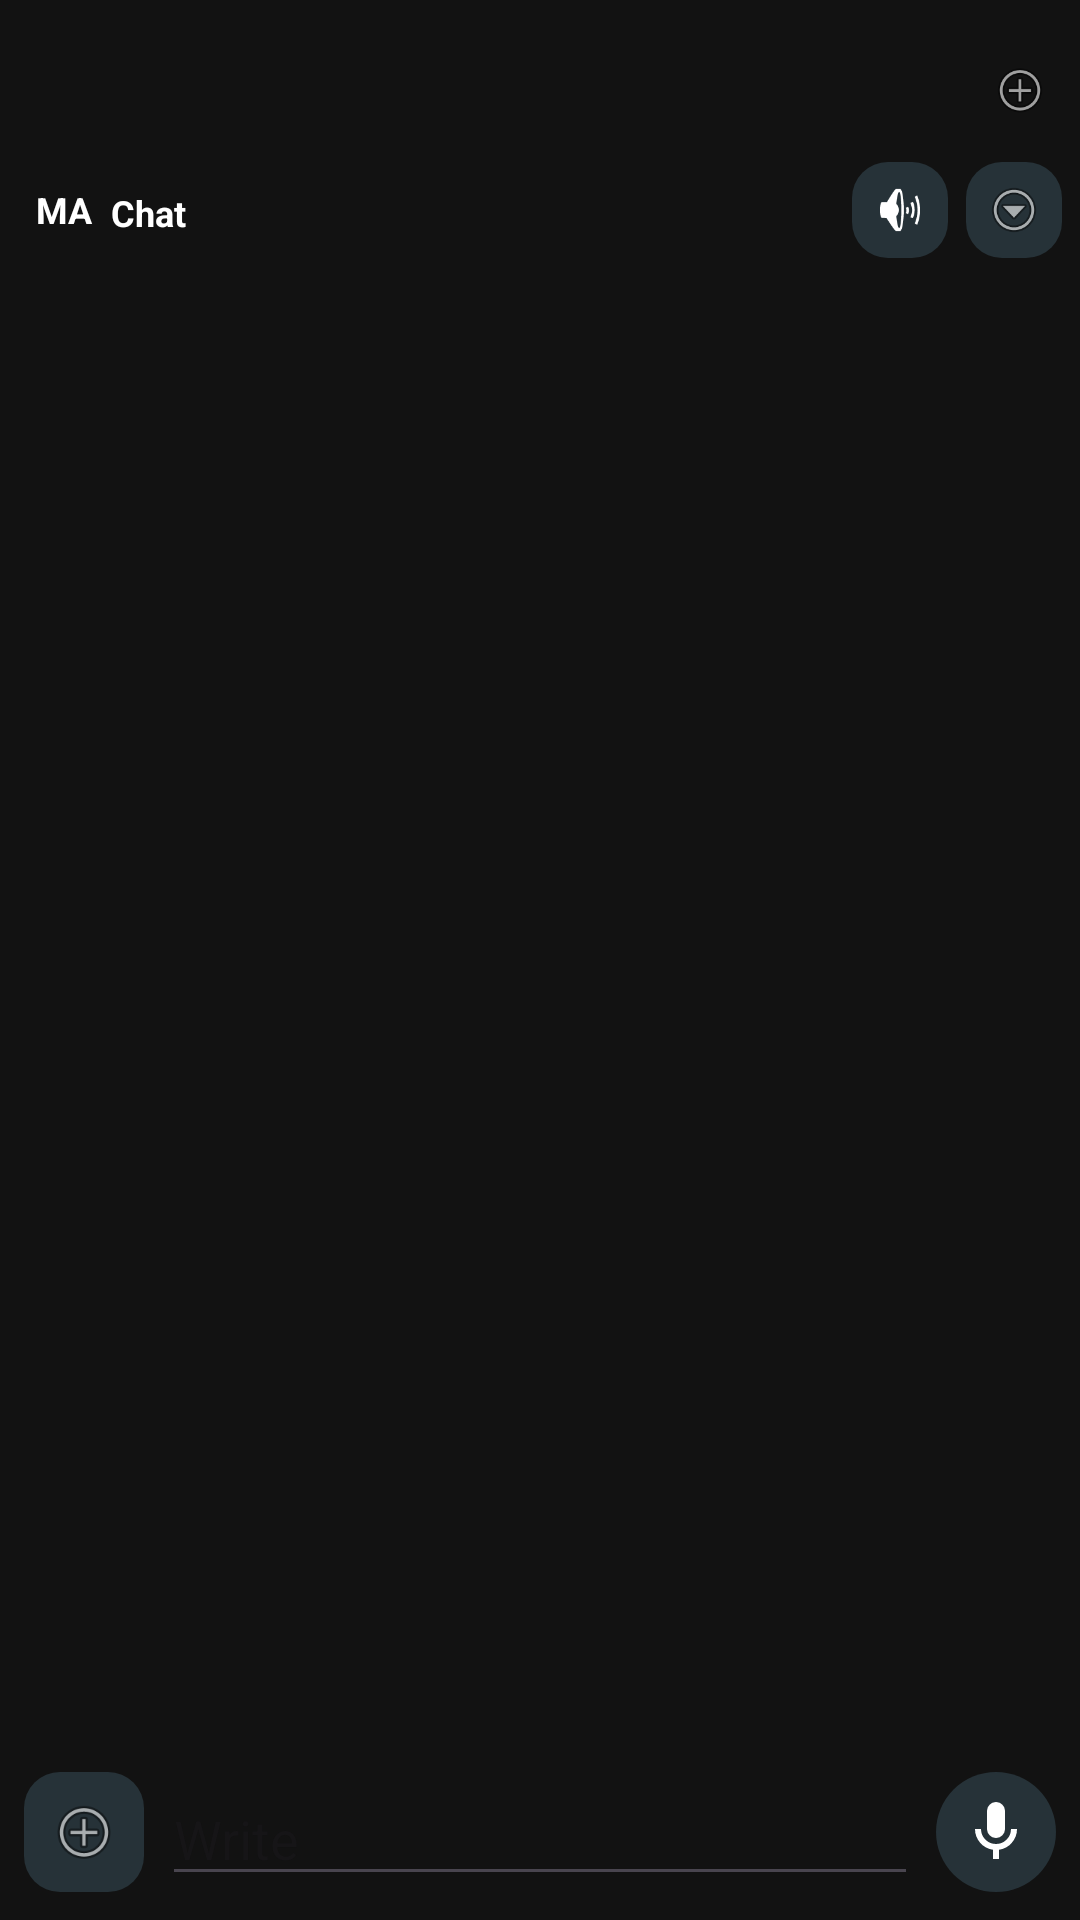

Icon click points for this 1080 × 1920 phone screenshot, format (x,y):
Attach: (84,1832)
Auto voice: (900,210)
Mic: (996,1832)
More: (1014,210)
